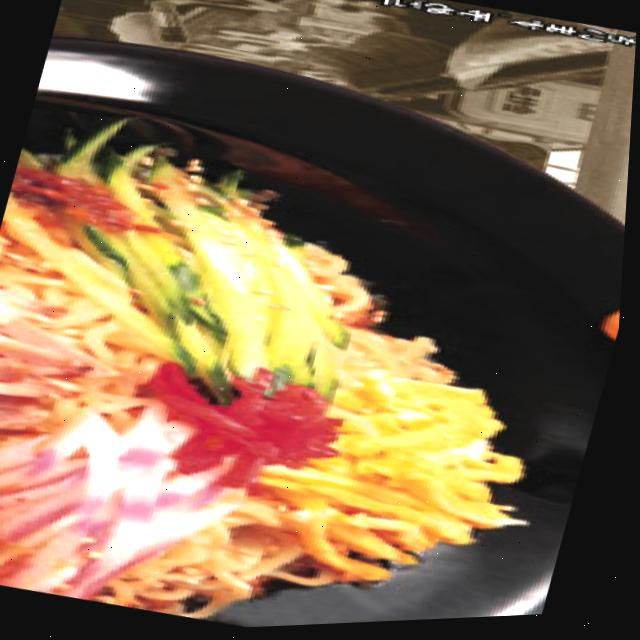面条主食: (0, 72, 636, 640)
